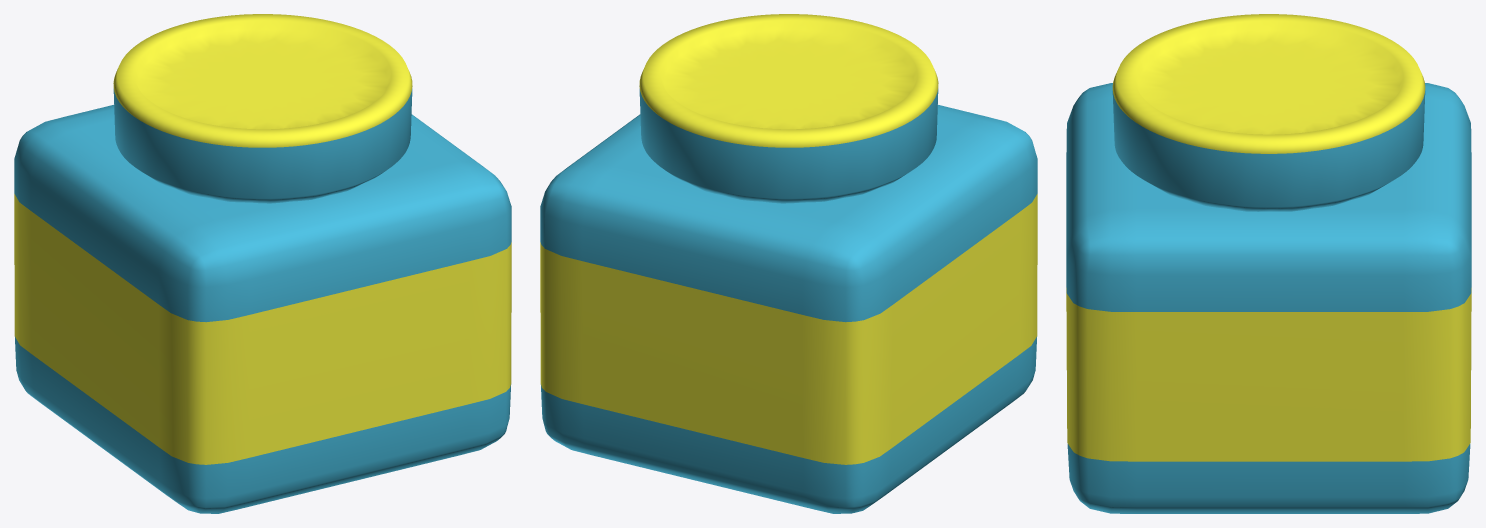
File: hezi.fbx
3 views of the same model, side by side, from view 1: azimuth 30°, elevation 25°; view 2: azimuth 150°, elevation 25°; view 3: azimuth 270°, elevation 25° (orthographic). The views are drawn at different scales.
Visible parts, largest first — view 1: polySurface2, pCylinder1; view 2: polySurface2, pCylinder1; view 3: polySurface2, pCylinder1.
Part boxes in pixels (box(x1,y1,x2,y2)): polySurface2: box(14, 105, 511, 513); pCylinder1: box(113, 14, 412, 203); polySurface2: box(540, 105, 1037, 513); pCylinder1: box(639, 14, 938, 203); polySurface2: box(1066, 83, 1471, 513); pCylinder1: box(1112, 14, 1425, 211).
Bounding box in the file's own units: 2 × 2 × 1.99.
